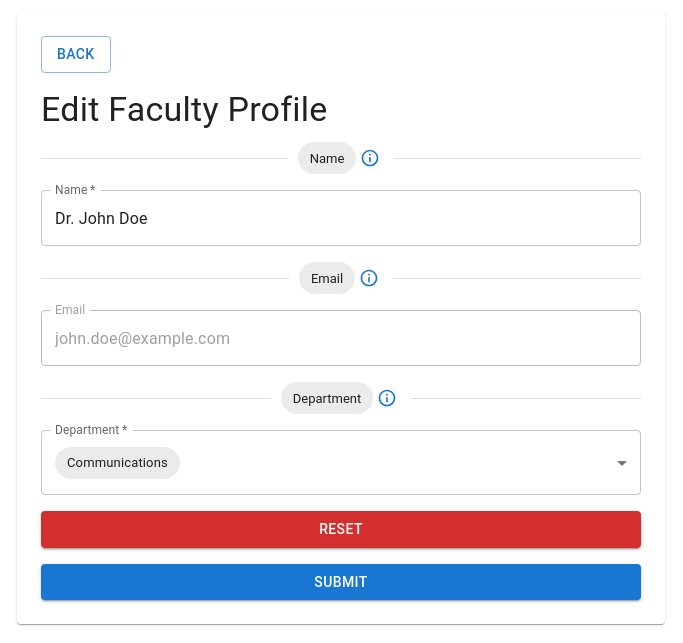
Test: AdminFacultyEdit › displays an error message when submission fails
Replace the text in the field labelled "Name *" with "Dr. John Deer" at {"x": 341, "y": 218}, box [41,190,641,246]
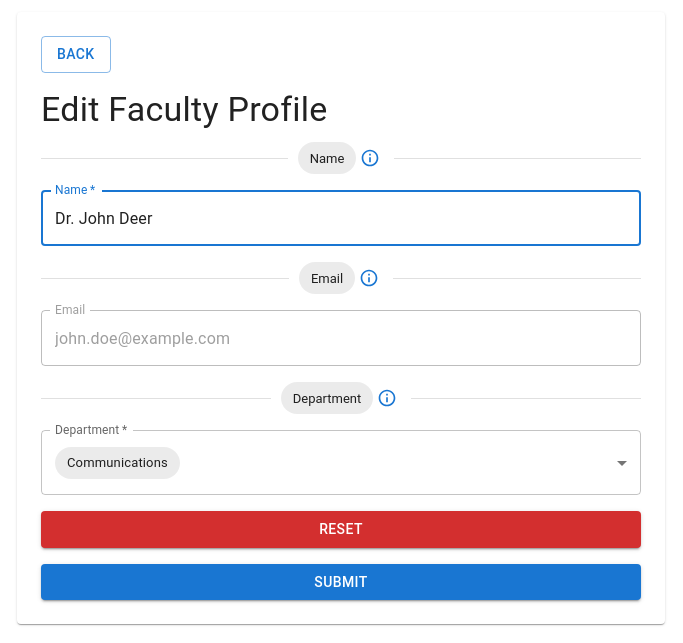
Click the button "Submit".
click(341, 582)  # box [41,564,641,600]
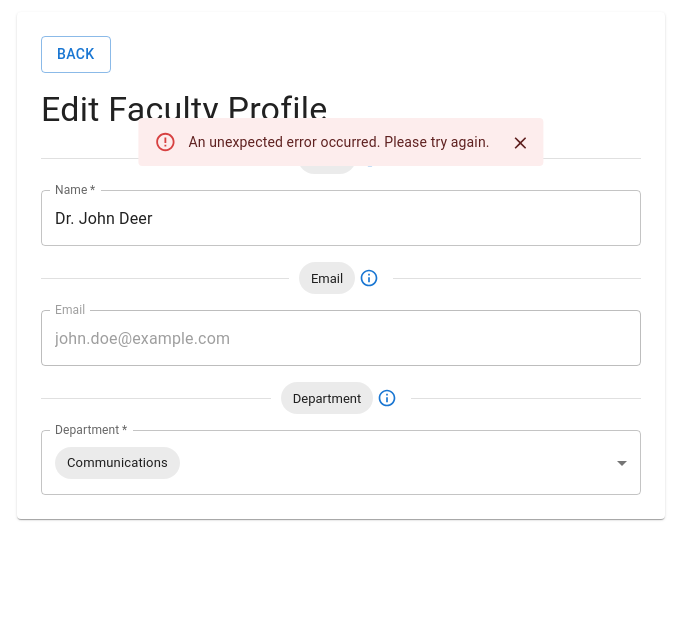
expect the text "An unexpected error occurred. Please try again." is shown: met, box [188,134,490,150]
